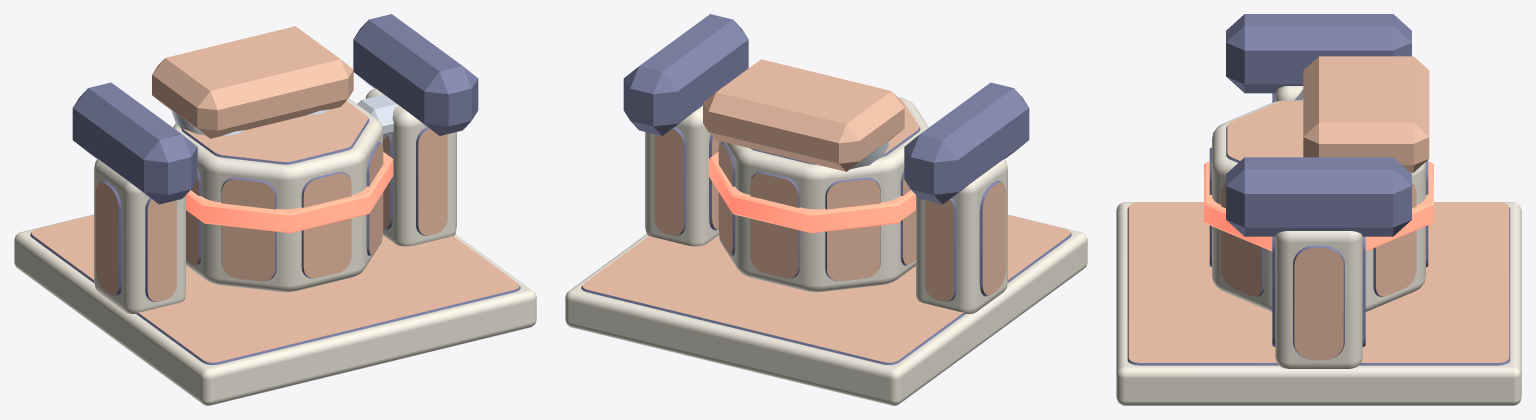
The model's file is R4X_OffensiveTurretDeployer.fbx.
3 views of the same model, side by side, from view 1: azimuth 30°, elevation 25°; view 2: azimuth 150°, elevation 25°; view 3: azimuth 270°, elevation 25° (orthographic). The views are drawn at different scales.
Visible parts, largest first — view 1: R4X_OffensiveTurretDeployer_Body, R4X_OffensiveTurretDeployer_Pod; view 2: R4X_OffensiveTurretDeployer_Body, R4X_OffensiveTurretDeployer_Pod; view 3: R4X_OffensiveTurretDeployer_Body, R4X_OffensiveTurretDeployer_Pod.
Part boxes in pixels (box(x1,y1,x2,y2)): R4X_OffensiveTurretDeployer_Body: box(14, 14, 536, 405); R4X_OffensiveTurretDeployer_Pod: box(152, 26, 393, 292); R4X_OffensiveTurretDeployer_Body: box(565, 14, 1087, 405); R4X_OffensiveTurretDeployer_Pod: box(703, 59, 928, 292); R4X_OffensiveTurretDeployer_Body: box(1116, 14, 1521, 405); R4X_OffensiveTurretDeployer_Pod: box(1204, 56, 1433, 311).
Size of the model in its own units: 0.5153 by 0.33 by 0.514.
